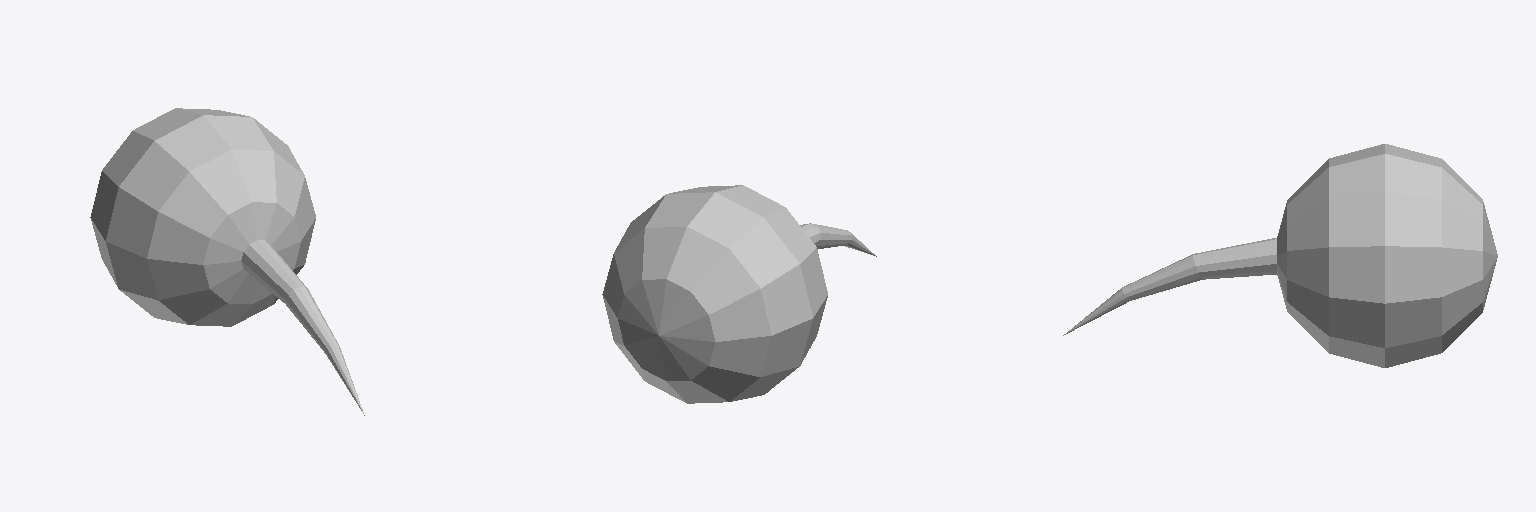
Rendered from serpent_spikeseg.obj.
3 renders of one model, left to right at view 1: azimuth 30°, elevation 25°; view 2: azimuth 150°, elevation 25°; view 3: azimuth 270°, elevation 25°, orthographic.
Parts seen in each view (by area): view 1: SpikeSeg; view 2: SpikeSeg; view 3: SpikeSeg.
Part boxes in pixels (x1,y1,x2,y2): SpikeSeg: (90,108,364,415); SpikeSeg: (602,185,876,403); SpikeSeg: (1063,144,1497,367).
Size of the model in its own units: 2 by 2 by 3.86.